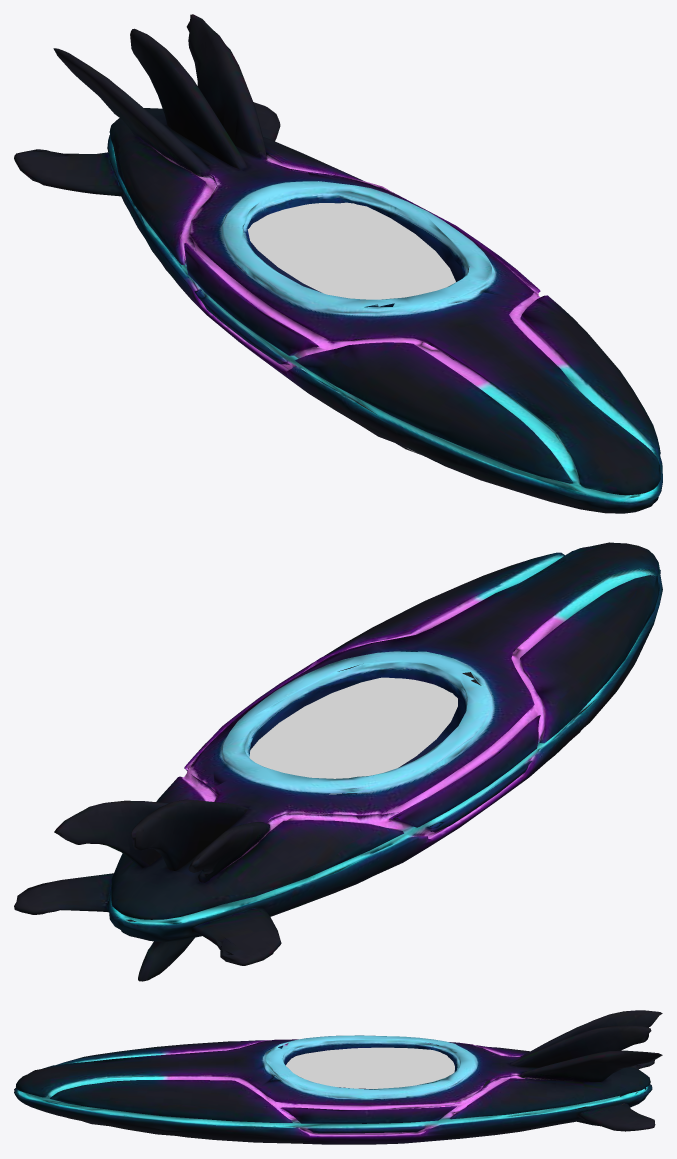
The model's file is Kayak_Neon.glb.
3 renders of one model, top to bottom at view 1: azimuth 30°, elevation 25°; view 2: azimuth 150°, elevation 25°; view 3: azimuth 270°, elevation 25°, orthographic. The views are drawn at different scales.
Visible parts, largest first — view 1: Kayak_Neon, Kayak_Neon_Cockpit; view 2: Kayak_Neon, Kayak_Neon_Cockpit; view 3: Kayak_Neon, Kayak_Neon_Cockpit.
Part boxes in pixels (x1,y1,x2,y2): Kayak_Neon: (14,14,662,513); Kayak_Neon_Cockpit: (247,202,455,299); Kayak_Neon: (14,542,662,981); Kayak_Neon_Cockpit: (249,677,457,794); Kayak_Neon: (14,1010,662,1144); Kayak_Neon_Cockpit: (285,1047,454,1088).
Size of the model in its own units: 2.82 by 1.73 by 9.99.
Materials: 2 (1 with a texture image).
